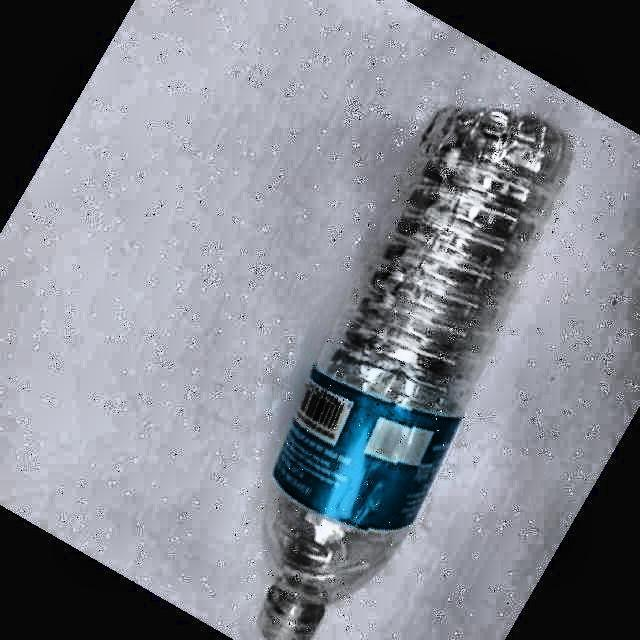plastic: (260, 109, 570, 640)
